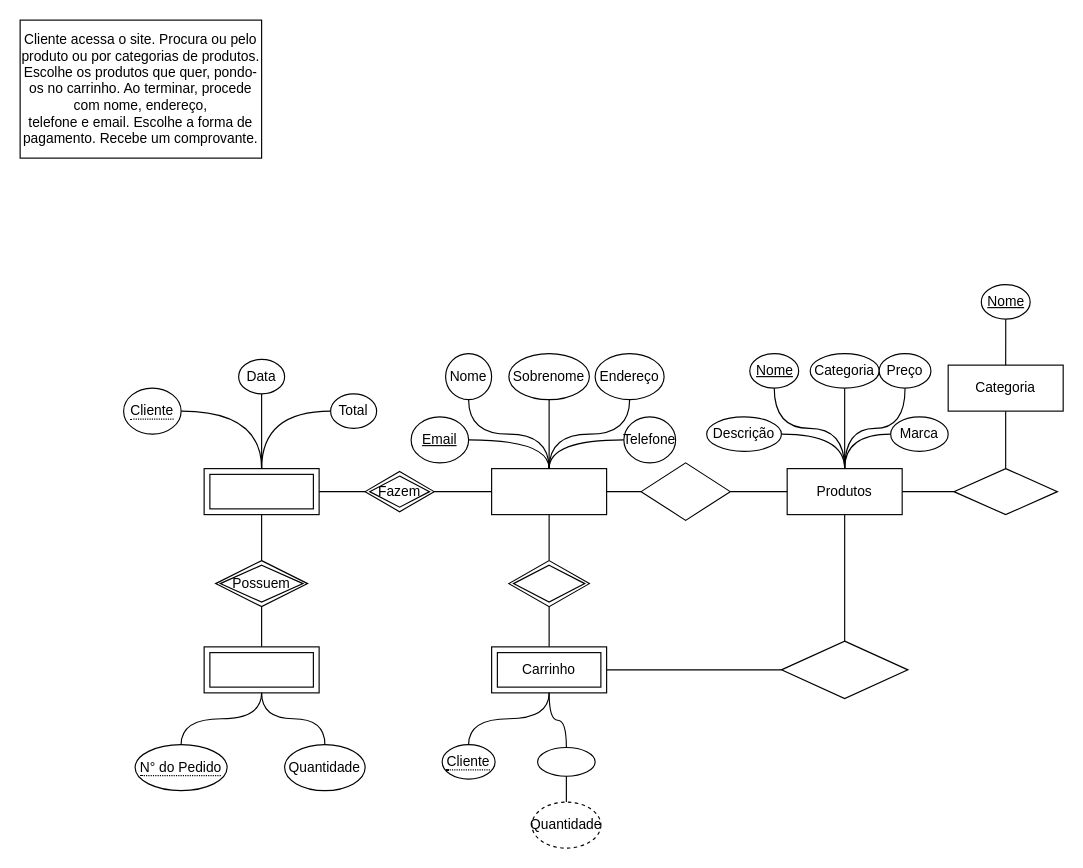
This 1083x868 diagram has some shape labels left out. Each missing label, with the centre of its shape:
"Adicionados a" goes at (844,669).
"Clientes" goes at (548,491).
"Itens" goes at (261,669).
"Pedidos" goes at (261,491).
"Pertencem a" goes at (1005,491).
"Possui" goes at (548,583).
"Produto" goes at (565,761).
"Seleciona" goes at (685,491).
